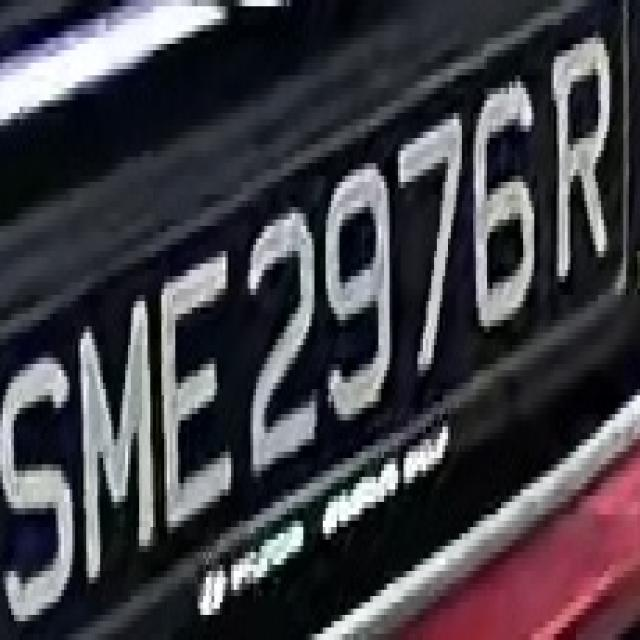2: (239, 182, 326, 502)
6: (462, 63, 543, 345)
7: (395, 94, 465, 402)
9: (309, 138, 401, 452)
E: (150, 251, 231, 546)
M: (67, 288, 156, 590)
R: (542, 19, 618, 270)
S: (0, 332, 72, 633)
